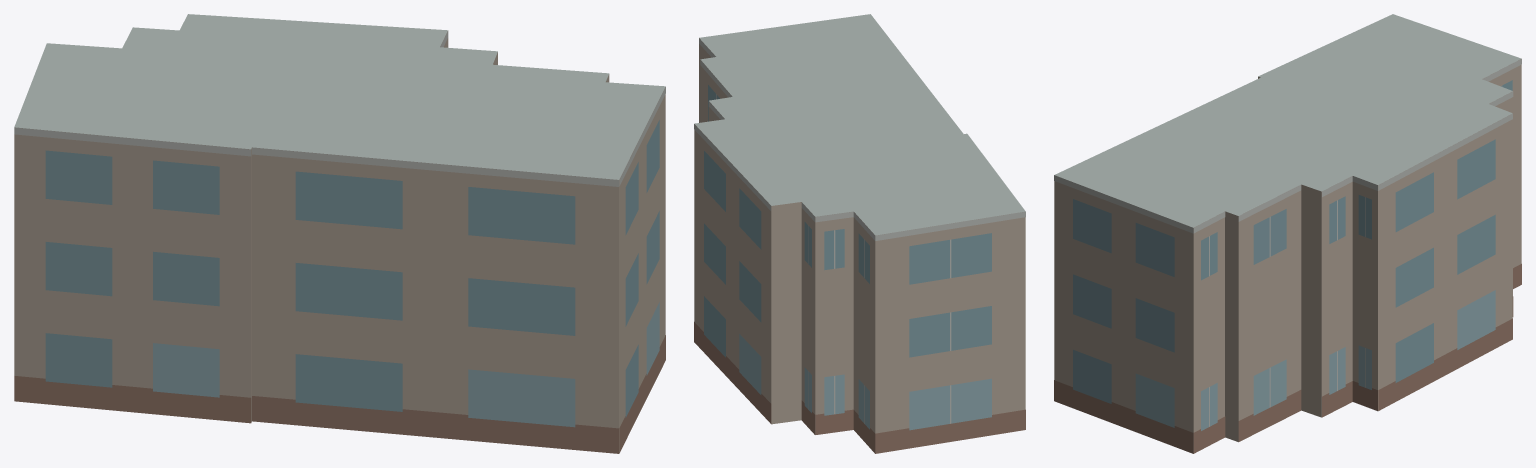
Rendered from survey-upis-32812741.glb.
3 views of the same model, side by side, from view 1: azimuth 30°, elevation 25°; view 2: azimuth 150°, elevation 25°; view 3: azimuth 270°, elevation 25° (orthographic). The views are drawn at different scales.
Parts seen in each view (by area): view 1: survey-upis-32812741.tmp; view 2: survey-upis-32812741.tmp; view 3: survey-upis-32812741.tmp.
Part boxes in pixels (x1,y1,x2,y2): survey-upis-32812741.tmp: (14, 14, 665, 453); survey-upis-32812741.tmp: (694, 14, 1025, 453); survey-upis-32812741.tmp: (1054, 14, 1521, 453).
Bounding box in the file's own units: 19.09 × 9.41 × 17.64.
